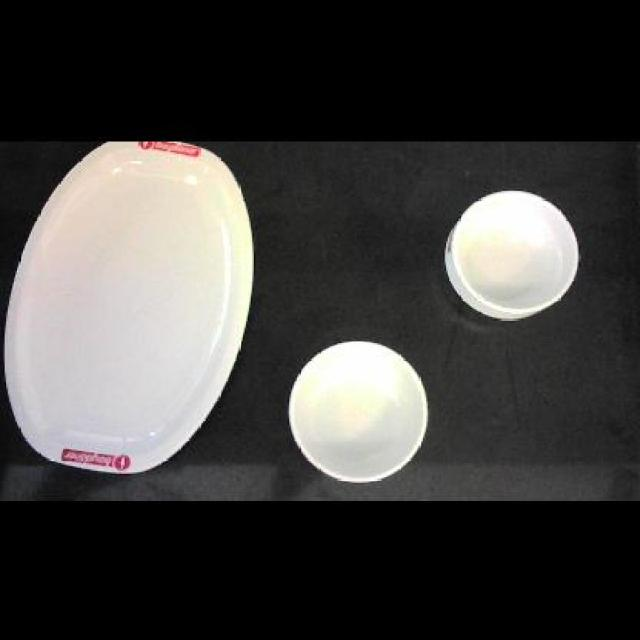plate: (3, 139, 252, 473), (288, 340, 426, 482), (444, 188, 578, 320)
